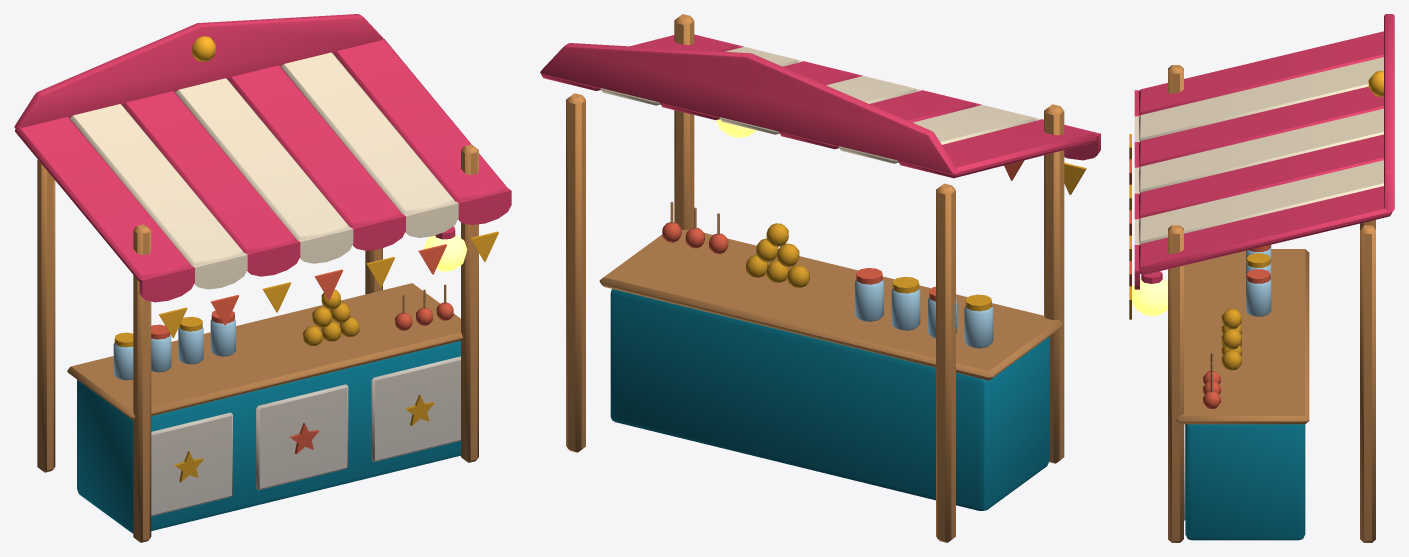
File: festival_stall.glb
3 renders of one model, left to right at view 1: azimuth 30°, elevation 25°; view 2: azimuth 150°, elevation 25°; view 3: azimuth 270°, elevation 25°, orthographic. The views are drawn at different scales.
Parts seen in each view (by area): view 1: festival_stall; view 2: festival_stall; view 3: festival_stall.
Part boxes in pixels (bbox=[...]): festival_stall: bbox=[14, 14, 511, 542]; festival_stall: bbox=[540, 14, 1100, 542]; festival_stall: bbox=[1129, 14, 1394, 542].
Size of the model in its own units: 3.2 by 3.3 by 1.99.
